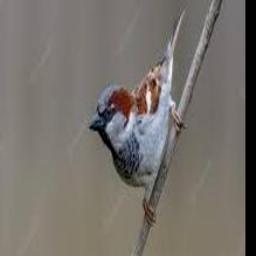Sparrow: (89, 8, 186, 226)
